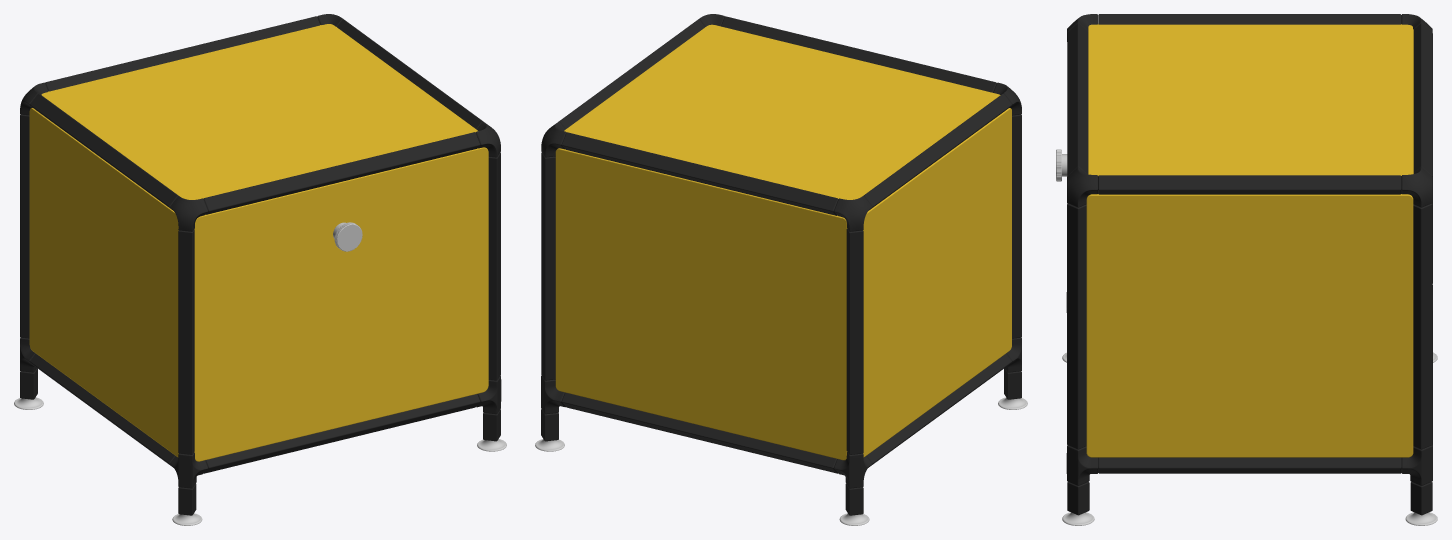
3 renders of one model, left to right at view 1: azimuth 30°, elevation 25°; view 2: azimuth 150°, elevation 25°; view 3: azimuth 270°, elevation 25°, orthographic. The views are drawn at different scales.
Parts seen in each view (by area): view 1: 420x374x330; view 2: 420x374x330; view 3: 420x374x330.
Part boxes in pixels (box(x1,y1,x2,y2)): 420x374x330: box(14, 14, 506, 525); 420x374x330: box(535, 14, 1027, 525); 420x374x330: box(1056, 14, 1437, 525).
Size of the model in its own units: 0.5099 by 0.4683 by 0.4707.
